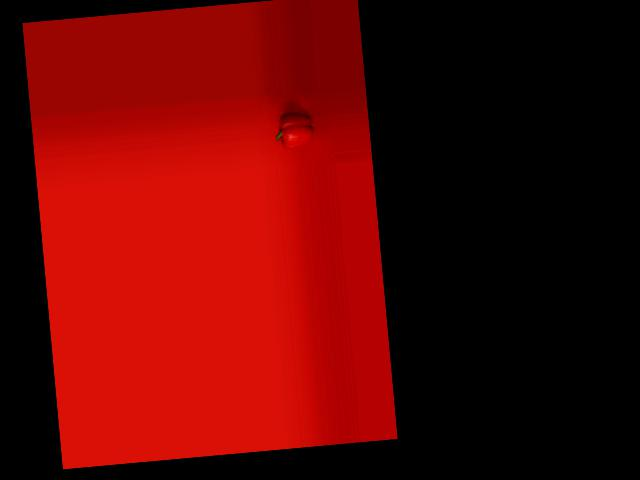bell_pepper: (272, 109, 317, 149)
